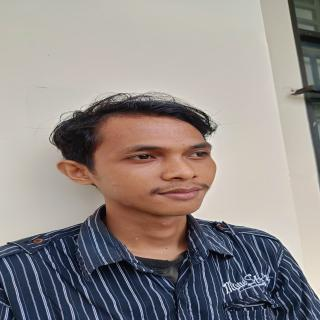Netral: (95, 110, 224, 221)
